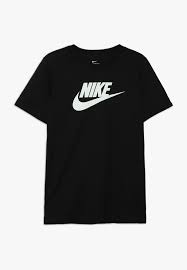nike: (65, 90, 129, 114)
